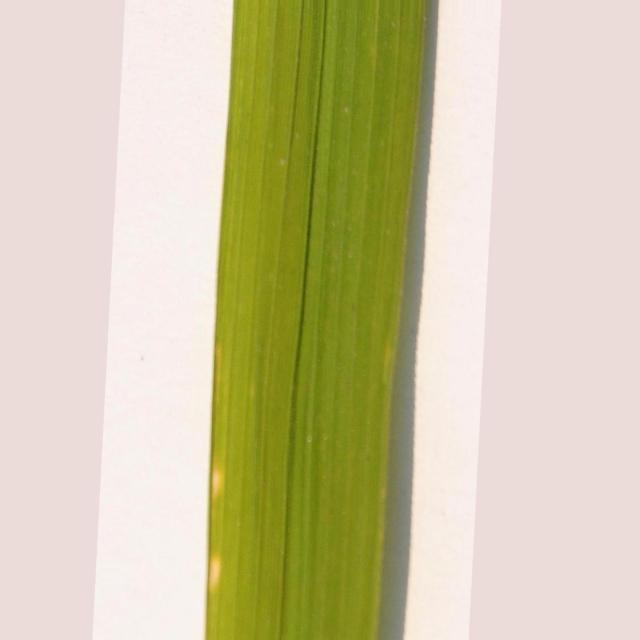Bacterial_Leaf_Blight: (209, 555, 221, 591), (212, 468, 221, 494)
